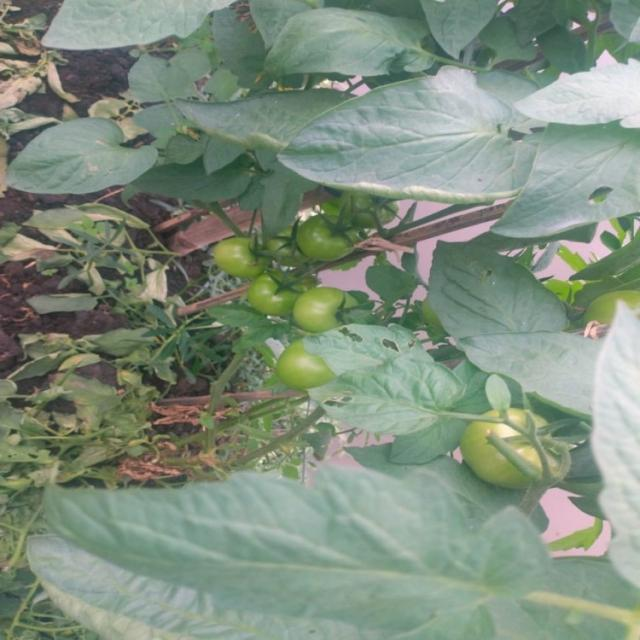tomato: (462, 401, 564, 497), (291, 201, 364, 264), (274, 339, 346, 397), (301, 284, 361, 332), (208, 230, 262, 280), (245, 276, 300, 324), (325, 190, 397, 224), (265, 220, 302, 259)
